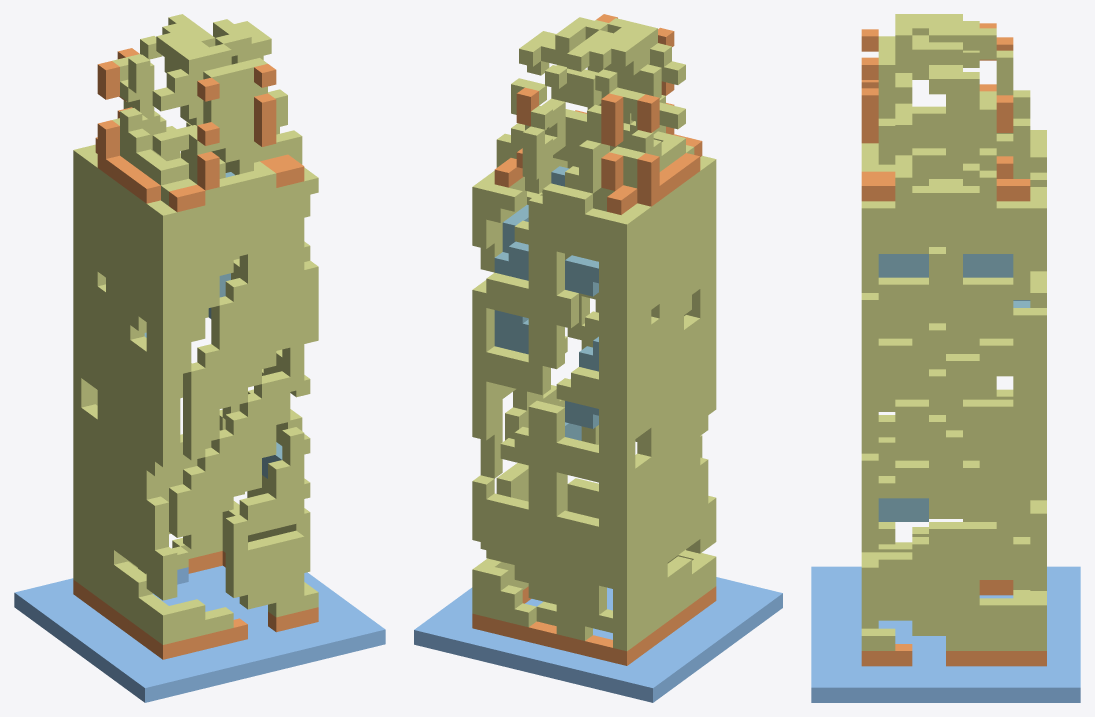
The model's file is building_3_collapsed_2.gltf.
3 renders of one model, left to right at view 1: azimuth 30°, elevation 25°; view 2: azimuth 150°, elevation 25°; view 3: azimuth 270°, elevation 25°, orthographic. The views are drawn at different scales.
Visible parts, largest first — view 1: Layer.1; view 2: Layer.1; view 3: Layer.1.
Boxes of the visible parts, left/top/right/bottom form: Layer.1: left=14, top=14, right=385, bottom=702; Layer.1: left=414, top=14, right=782, bottom=702; Layer.1: left=811, top=14, right=1080, bottom=702.
Size of the model in its own units: 17 by 40 by 16.
Materials: 1 (1 with a texture image).
